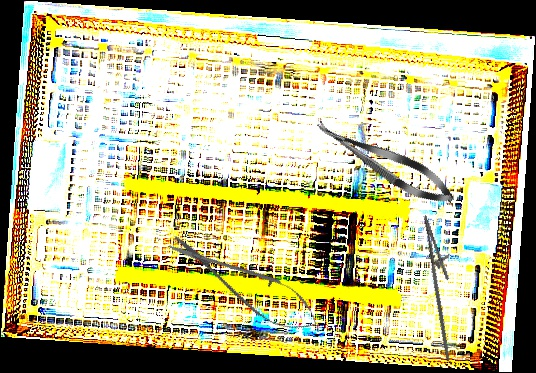Micro Scissor: (160, 222, 327, 344), (309, 110, 461, 214)
Needle Holder: (406, 211, 478, 362)
